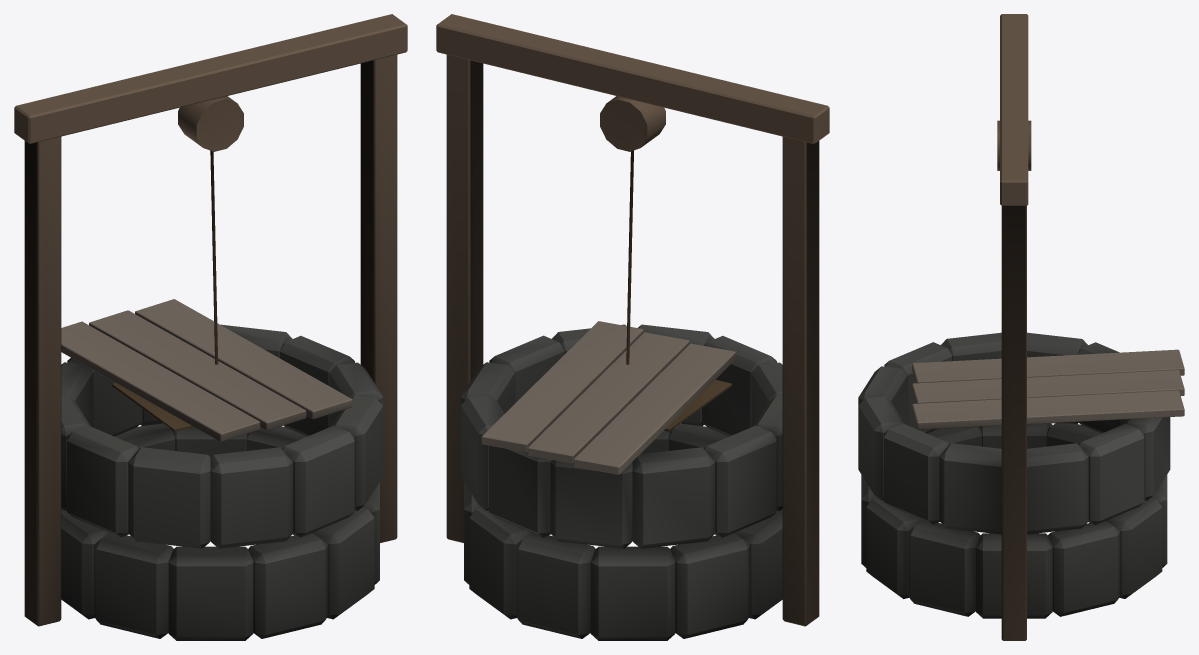
File: prop.well.mo.glb
3 renders of one model, left to right at view 1: azimuth 30°, elevation 25°; view 2: azimuth 150°, elevation 25°; view 3: azimuth 270°, elevation 25°, orthographic. The views are drawn at different scales.
Parts seen in each view (by area): view 1: LOD0; view 2: LOD0; view 3: LOD0.
Part boxes in pixels (left/top/right/bottom): LOD0: left=14, top=14, right=407, bottom=640; LOD0: left=436, top=14, right=829, bottom=640; LOD0: left=858, top=14, right=1184, bottom=640.
Size of what is drawn, in the model's own units: 1.4 by 1.81 by 1.15.
